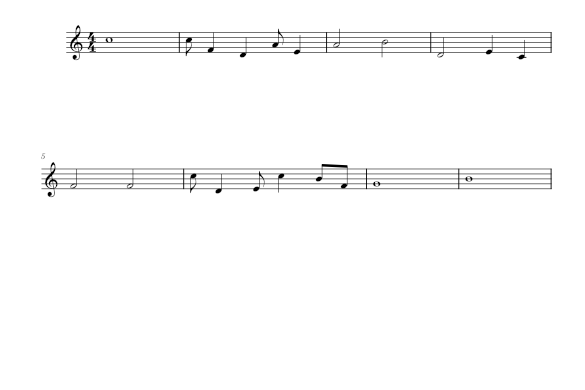Treble Clef: (65, 19, 85, 63), (42, 159, 62, 201)
